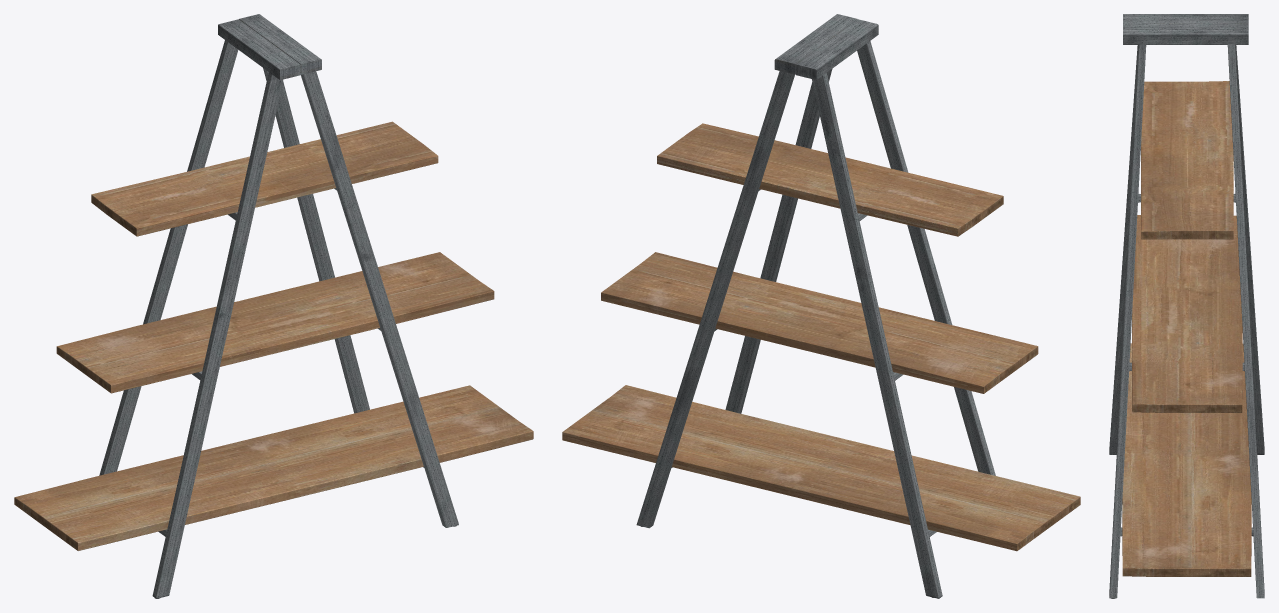
Rendered from bookshelf_abo_B075Z7SQND.glb.
3 renders of one model, left to right at view 1: azimuth 30°, elevation 25°; view 2: azimuth 150°, elevation 25°; view 3: azimuth 270°, elevation 25°, orthographic.
Parts seen in each view (by area): view 1: RootNode; view 2: RootNode; view 3: RootNode.
Part boxes in pixels (box(x1,y1,x2,y2)): RootNode: box(14, 14, 533, 598); RootNode: box(562, 14, 1080, 598); RootNode: box(1109, 14, 1264, 598).
Size of the model in its own units: 1.75 by 1.81 by 0.5081.
Materials: 1 (1 with a texture image).
